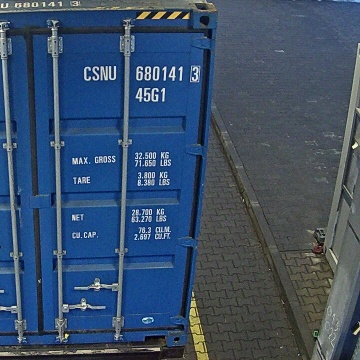serial_id: (83, 66, 198, 81)
